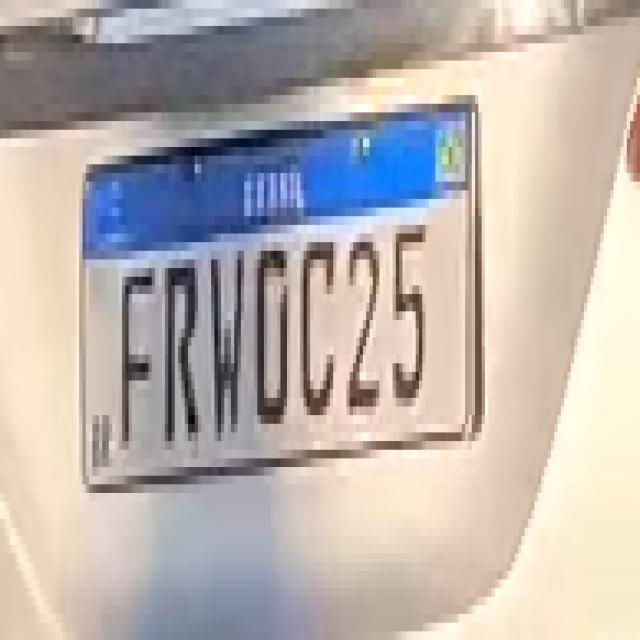Placa_mercosul_carro: (82, 99, 479, 487)
